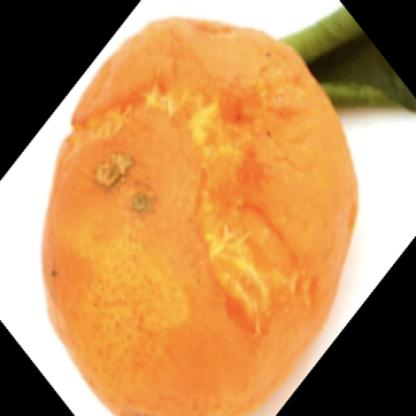rotten: (42, 17, 356, 416)
